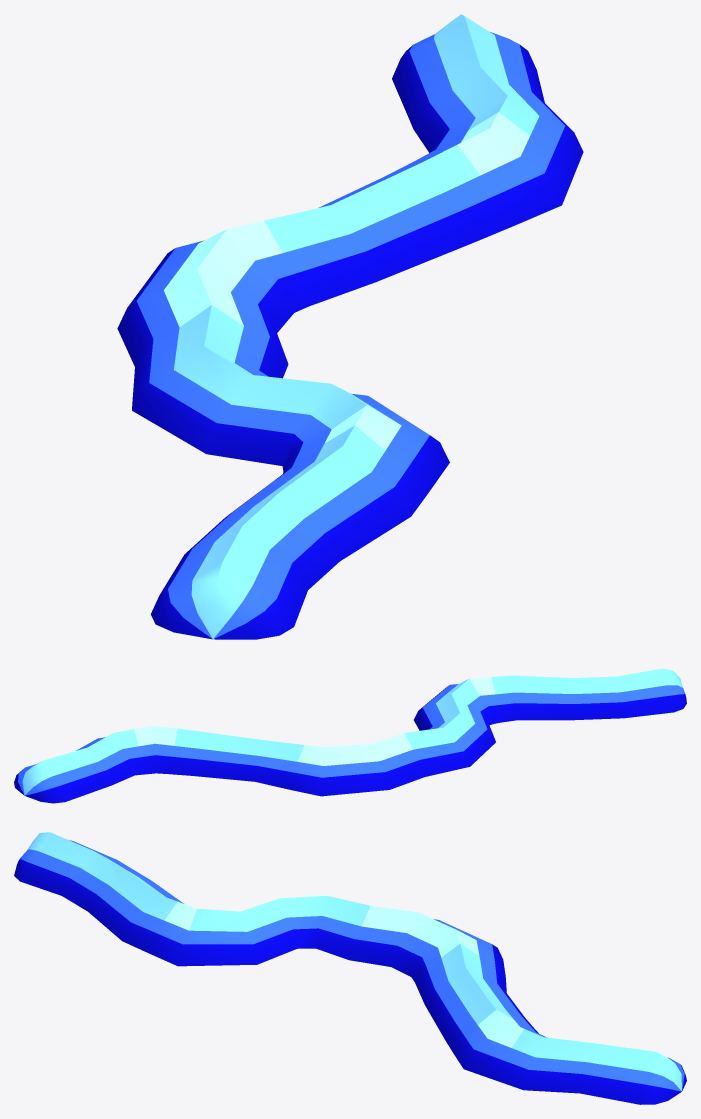
The model's file is shot_lightning_196.glb.
3 views of the same model, one above another, from view 1: azimuth 30°, elevation 25°; view 2: azimuth 150°, elevation 25°; view 3: azimuth 270°, elevation 25° (orthographic). The views are drawn at different scales.
Parts seen in each view (by area): view 1: shot_lightning_196_0; view 2: shot_lightning_196_0; view 3: shot_lightning_196_0.
Boxes of the visible parts, x1,y1,x2,y2 form: shot_lightning_196_0: (117, 14, 583, 639); shot_lightning_196_0: (14, 668, 686, 803); shot_lightning_196_0: (14, 832, 686, 1104).
Size of the model in its own units: 13.83 by 0.977 by 15.54.
